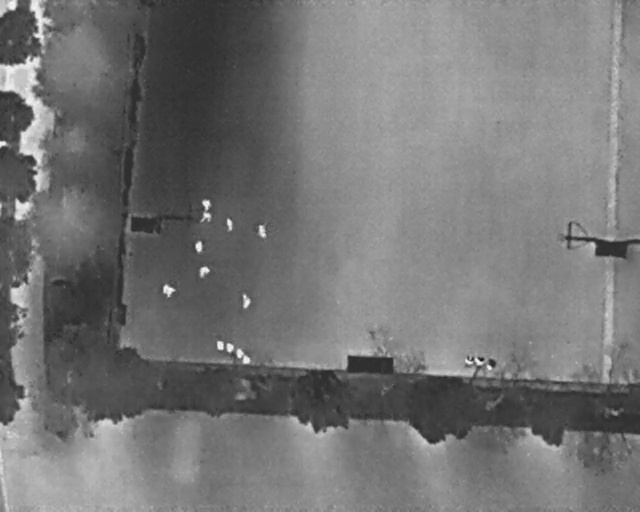Person: (161, 283, 177, 300), (255, 222, 270, 240), (224, 215, 235, 233), (241, 293, 252, 310), (197, 266, 211, 279), (200, 198, 213, 211), (199, 212, 212, 223), (194, 241, 203, 254)
